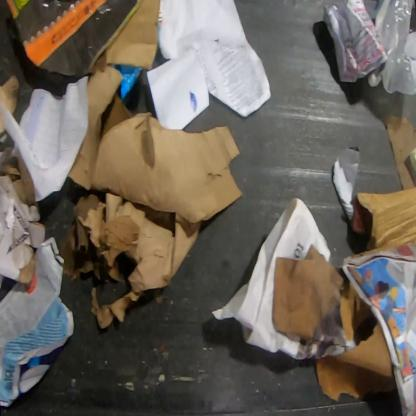cardboard: (67, 0, 244, 226), (2, 0, 142, 79), (0, 144, 47, 291), (348, 186, 415, 251), (338, 275, 374, 342), (99, 86, 136, 143), (0, 74, 20, 139), (109, 64, 142, 102)
soft_plastic: (374, 0, 415, 97)
